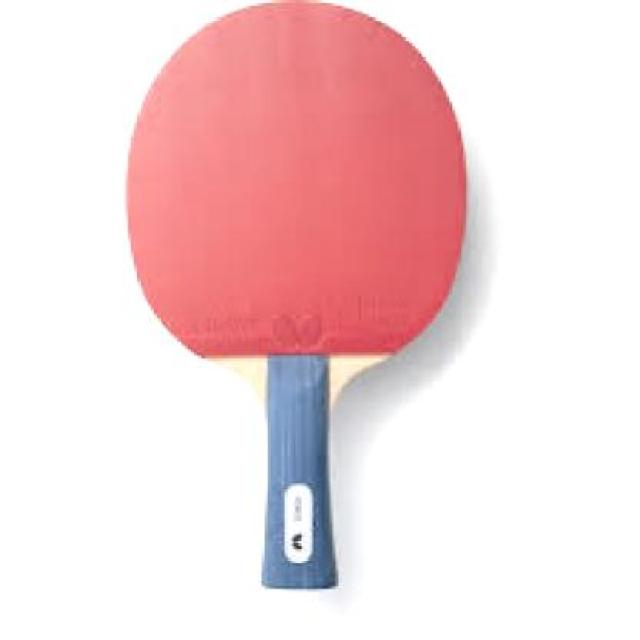table_tennis_racket: (117, 0, 468, 395)
